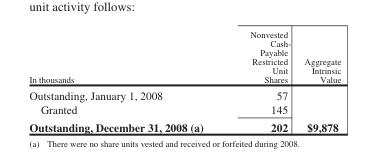table: (28, 29, 340, 133)
table column: (28, 29, 226, 133), (226, 29, 296, 133), (296, 29, 340, 133)
table column header: (28, 29, 340, 86)
table row: (28, 29, 340, 86), (28, 86, 340, 102), (28, 117, 340, 133), (28, 102, 340, 117)
